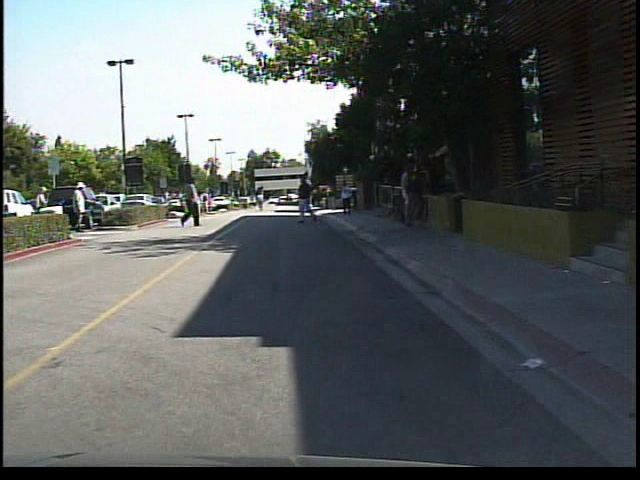person: (396, 154, 425, 235), (295, 168, 323, 226), (180, 172, 207, 232), (414, 165, 436, 227), (72, 177, 95, 235), (33, 182, 56, 238), (338, 176, 356, 220), (200, 188, 213, 218), (254, 189, 270, 212)
